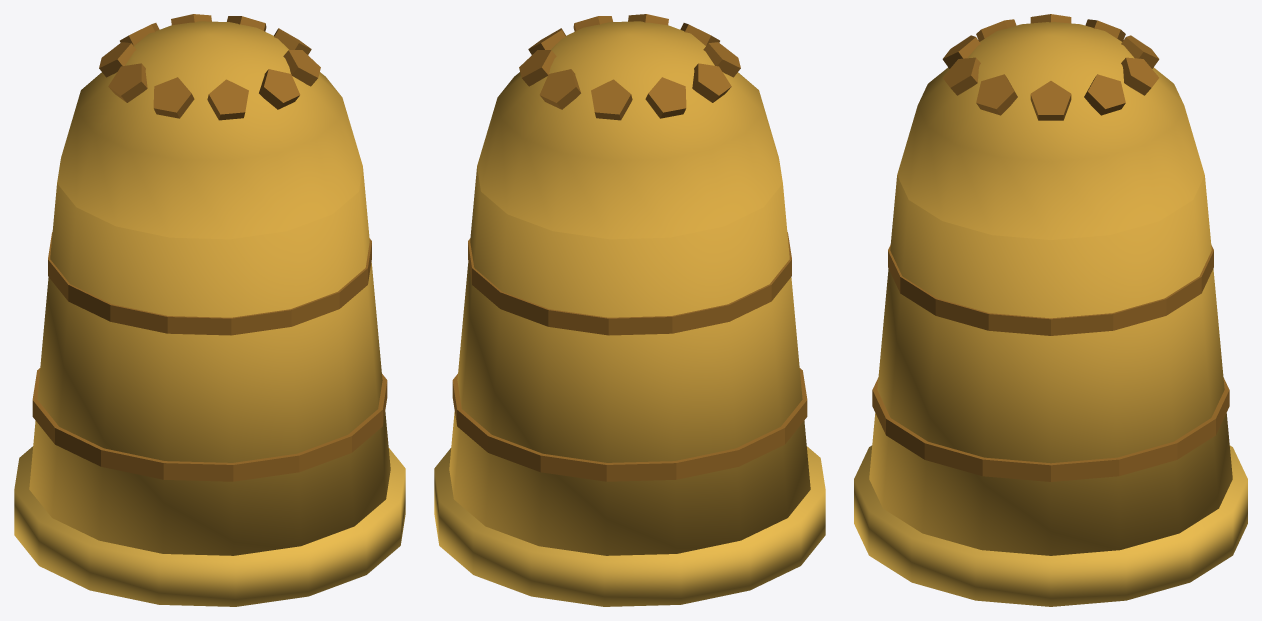
File: brass_thimble.glb
The picture shows the model from 3 angles, left to right: view 1: azimuth 30°, elevation 25°; view 2: azimuth 150°, elevation 25°; view 3: azimuth 270°, elevation 25°; orthographic projection.
Parts seen in each view (by area): view 1: curio_brass_thimble; view 2: curio_brass_thimble; view 3: curio_brass_thimble.
Part boxes in pixels (x1,y1,x2,y2): curio_brass_thimble: (14, 14, 405, 606); curio_brass_thimble: (434, 14, 825, 606); curio_brass_thimble: (854, 14, 1247, 606).
Size of the model in its own units: 0.128 by 0.175 by 0.128.
